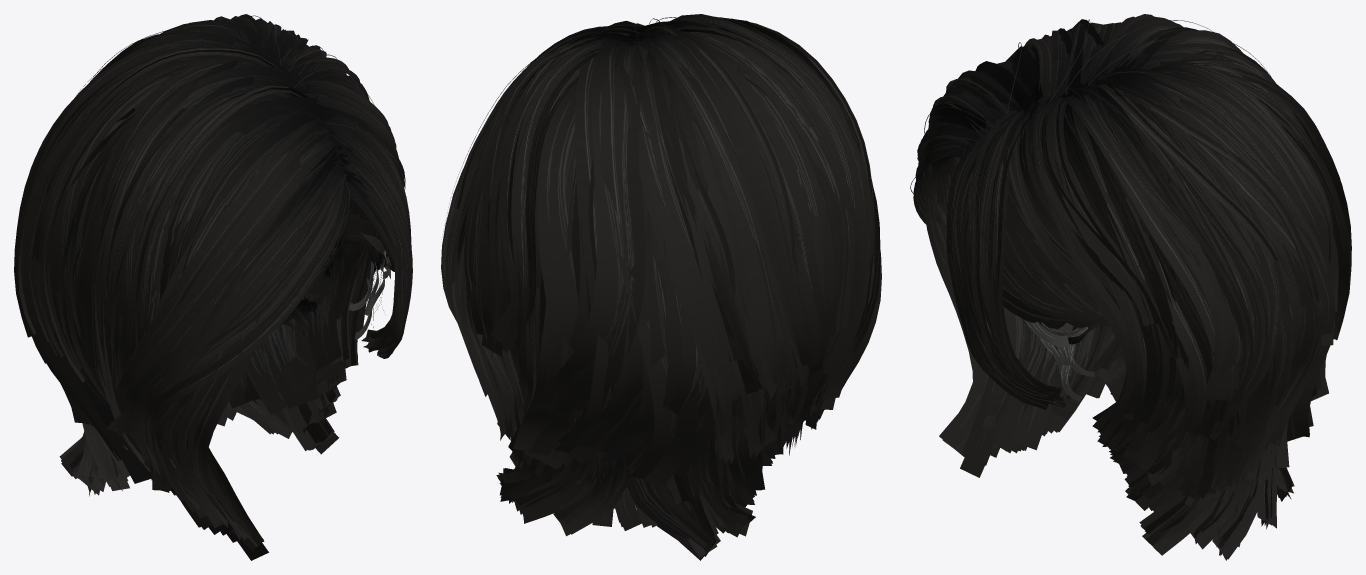
The model's file is cha200_20_lod0.obj.
3 renders of one model, left to right at view 1: azimuth 30°, elevation 25°; view 2: azimuth 150°, elevation 25°; view 3: azimuth 270°, elevation 25°, orthographic. The views are drawn at different scales.
Parts seen in each view (by area): view 1: Hair00_mat, Hair01_mat, Hair02_mat; view 2: Hair00_mat, Hair01_mat; view 3: Hair00_mat, Hair01_mat, Hair02_mat.
Part boxes in pixels (x1=…): Hair00_mat: x1=14, y1=14, x2=412, y2=560; Hair01_mat: x1=33, y1=15, x2=405, y2=496; Hair02_mat: x1=348, y1=250, x2=390, y2=339; Hair00_mat: x1=441, y1=14, x2=881, y2=489; Hair01_mat: x1=443, y1=16, x2=869, y2=560; Hair00_mat: x1=913, y1=14, x2=1351, y2=501; Hair01_mat: x1=910, y1=19, x2=1327, y2=560; Hair02_mat: x1=1018, y1=301, x2=1094, y2=401.
Bounding box in the file's own units: 0.2045 × 0.2627 × 0.2241.
